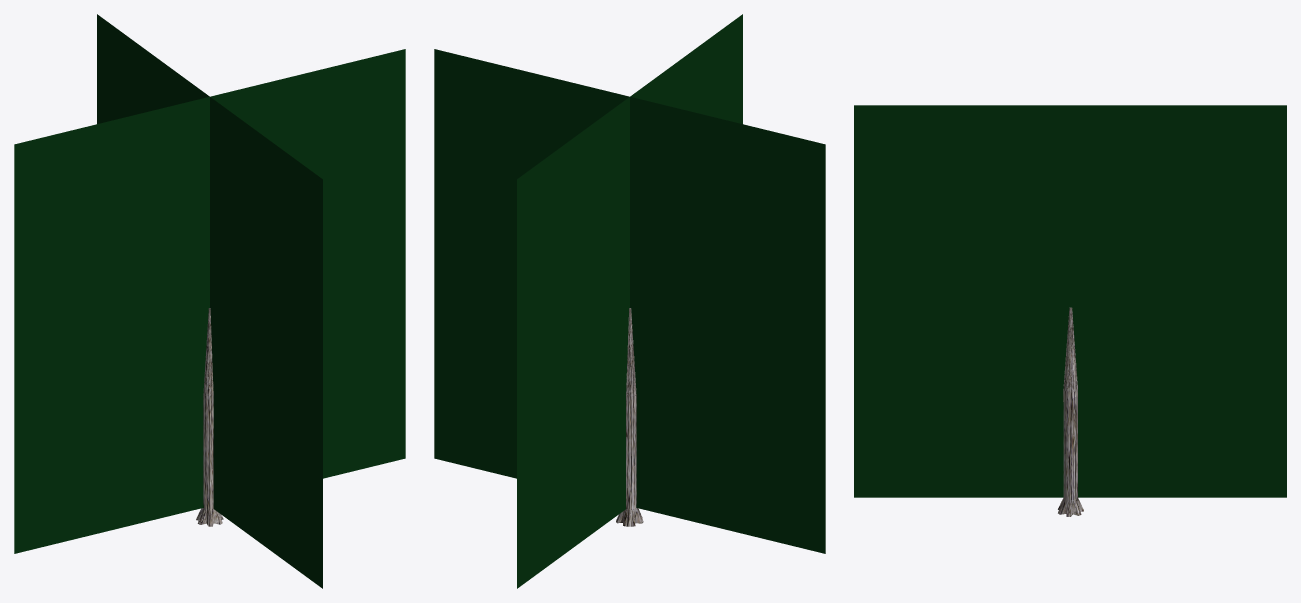
File: Tree1_LODGroup.fbx
3 views of the same model, side by side, from view 1: azimuth 30°, elevation 25°; view 2: azimuth 150°, elevation 25°; view 3: azimuth 270°, elevation 25° (orthographic). The views are drawn at different scales.
Parts seen in each view (by area): view 1: Tree_LOD2; view 2: Tree_LOD2; view 3: Tree_LOD2.
Boxes of the visible parts, left/top/right/bottom form: Tree_LOD2: left=14, top=14, right=405, bottom=588; Tree_LOD2: left=434, top=14, right=825, bottom=588; Tree_LOD2: left=854, top=105, right=1286, bottom=516.
Size of the model in its own units: 3000 by 3106 by 3000.
2 materials, 1 textured.
